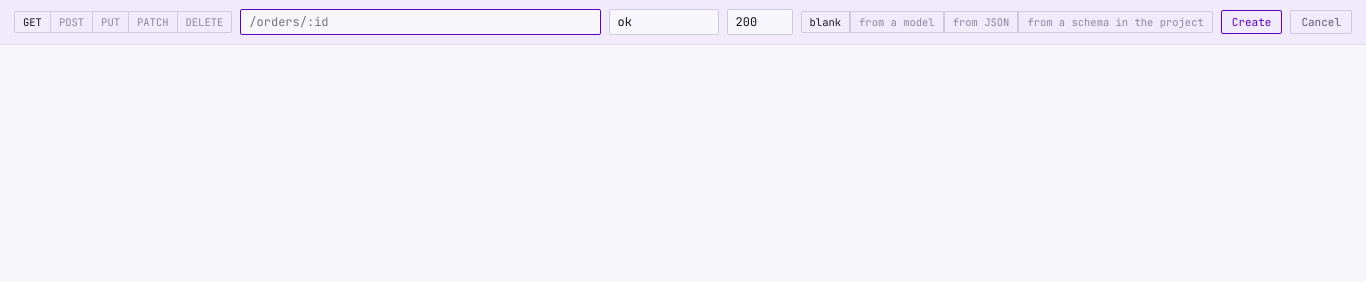
Test: CreateEndpointRow › offers the type field only in the model flow
expect the field labelled "type" is not shown: met
Click the button "from a model".
click(897, 22)  # box [850,12,944,32]
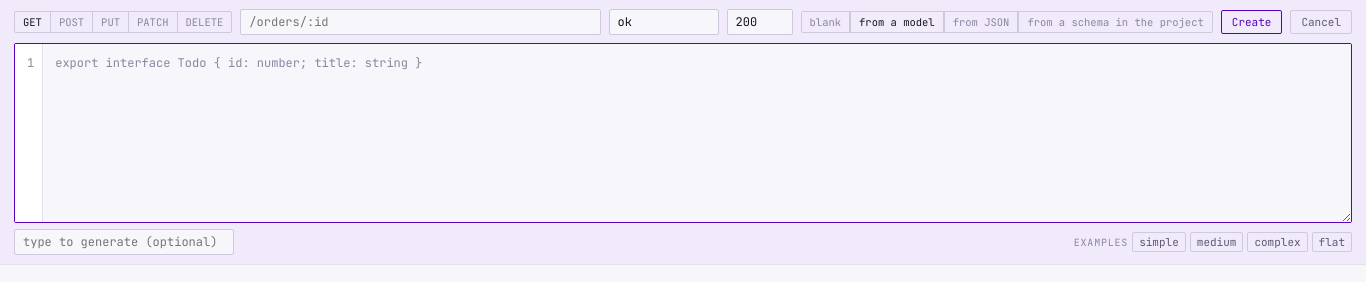
expect the field labelled "type" is shown: met, box [14,229,234,255]
